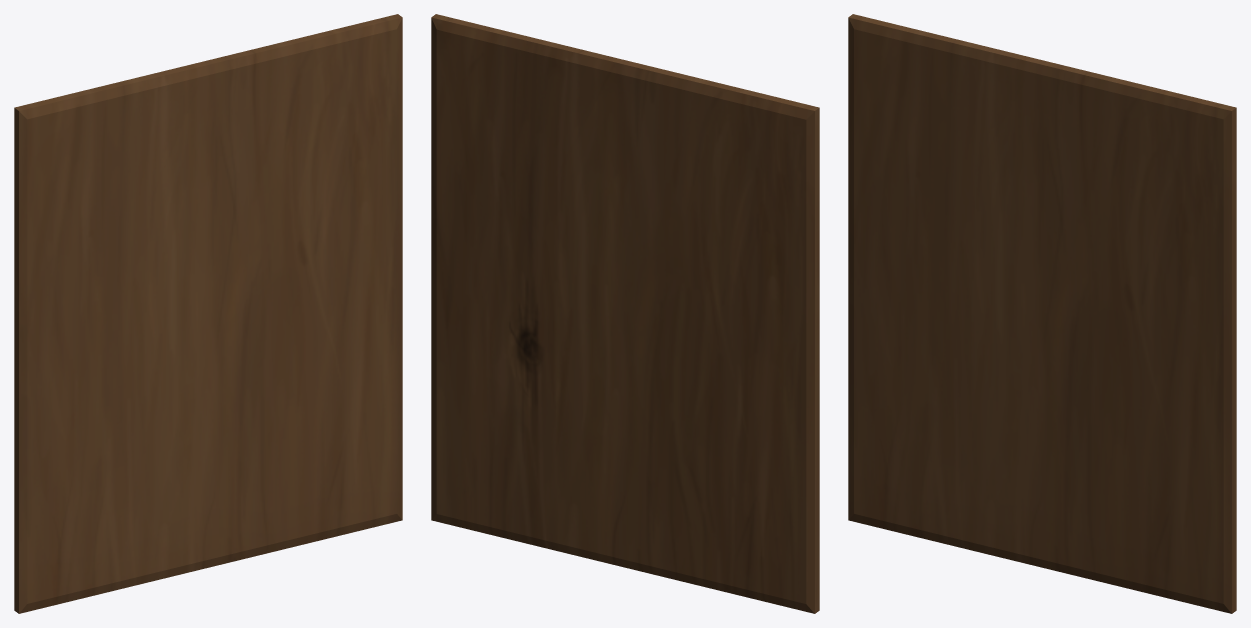
Rendered from Wall_PlywoodHalf2.fbx.
3 renders of one model, left to right at view 1: azimuth 30°, elevation 25°; view 2: azimuth 150°, elevation 25°; view 3: azimuth 330°, elevation 25°, orthographic.
Visible parts, largest first — view 1: Plywood36; view 2: Plywood36; view 3: Plywood36.
Boxes of the visible parts, x1,y1,x2,y2 form: Plywood36: (14, 14, 402, 613); Plywood36: (431, 14, 819, 613); Plywood36: (848, 14, 1236, 613).
Bounding box in the file's own units: 100 × 125 × 3.4.
